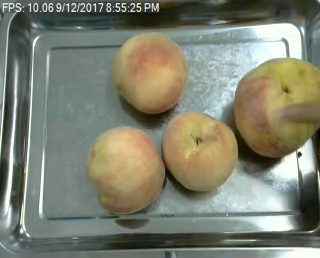Peach: (232, 57, 318, 159), (85, 125, 165, 214), (162, 111, 239, 192), (113, 32, 187, 113)
